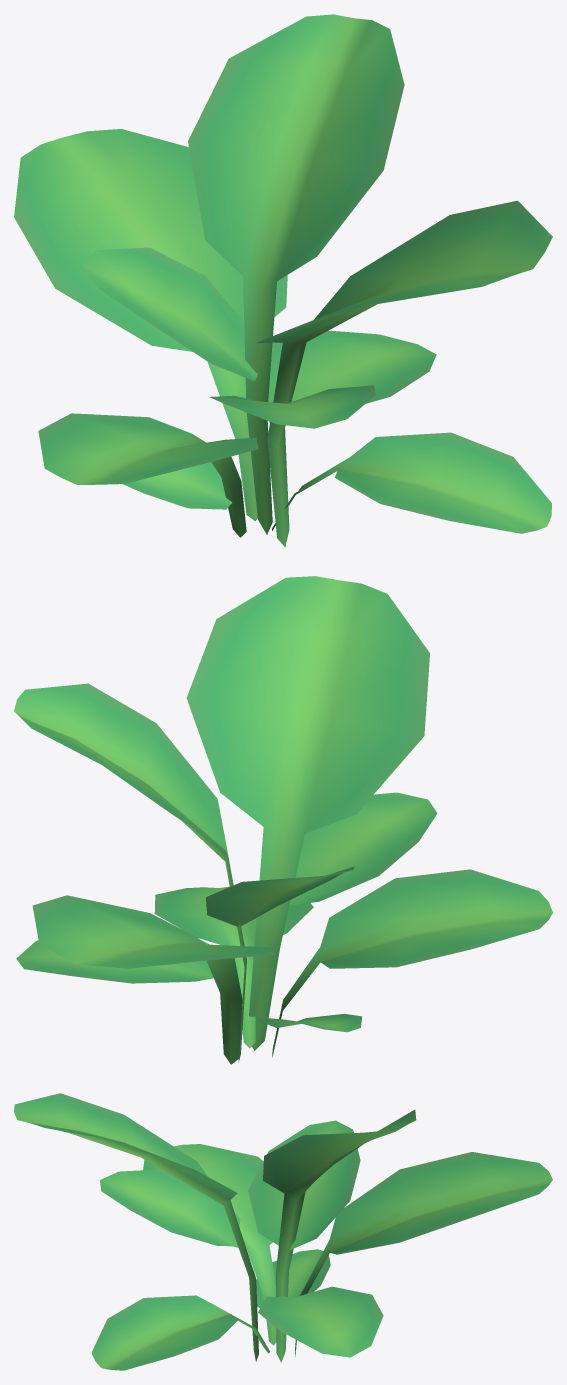
File: AmericanRubberPlant.fbx
3 renders of one model, top to bottom at view 1: azimuth 30°, elevation 25°; view 2: azimuth 150°, elevation 25°; view 3: azimuth 270°, elevation 25°, orthographic. The views are drawn at different scales.
Parts seen in each view (by area): view 1: Plane.062, Plane.056, Plane.060, Plane.064, Plane.061, Plane.063, Plane.058, Plane.059, Plane.065; view 2: Plane.060, Plane.061, Plane.062, Plane.056, Plane.059, Plane.064, Plane.058, Plane.063, Plane.065; view 3: Plane.056, Plane.060, Plane.064, Plane.062, Plane.058, Plane.059, Plane.063, Plane.061, Plane.065.
Boxes of the visible parts, x1=… form: Plane.062: x1=188, y1=14, x2=404, y2=534; Plane.056: x1=14, y1=129, x2=287, y2=521; Plane.060: x1=256, y1=200, x2=552, y2=546; Plane.064: x1=272, y1=432, x2=551, y2=533; Plane.061: x1=38, y1=413, x2=258, y2=537; Plane.063: x1=81, y1=247, x2=257, y2=381; Plane.058: x1=268, y1=330, x2=436, y2=422; Plane.059: x1=209, y1=385, x2=375, y2=428; Plane.065: x1=123, y1=462, x2=232, y2=509; Plane.060: x1=186, y1=576, x2=429, y2=1050; Plane.061: x1=272, y1=869, x2=552, y2=1057; Plane.062: x1=14, y1=683, x2=246, y2=1062; Plane.056: x1=32, y1=895, x2=275, y2=1064; Plane.059: x1=289, y1=792, x2=437, y2=905; Plane.064: x1=154, y1=886, x2=313, y2=1048; Plane.058: x1=16, y1=939, x2=213, y2=983; Plane.063: x1=205, y1=866, x2=354, y2=926; Plane.065: x1=257, y1=1013, x2=362, y2=1032; Plane.056: x1=295, y1=1152, x2=552, y2=1356; Plane.060: x1=14, y1=1093, x2=258, y2=1361; Plane.064: x1=91, y1=1295, x2=269, y2=1370; Plane.062: x1=263, y1=1109, x2=416, y2=1362; Plane.058: x1=258, y1=1286, x2=383, y2=1357; Plane.059: x1=100, y1=1169, x2=240, y2=1246; Plane.063: x1=248, y1=1120, x2=360, y2=1250; Plane.061: x1=143, y1=1144, x2=276, y2=1345; Plane.065: x1=256, y1=1249, x2=330, y2=1307.
Bounding box in the file's own units: 55.82 × 46.5 × 77.73.
